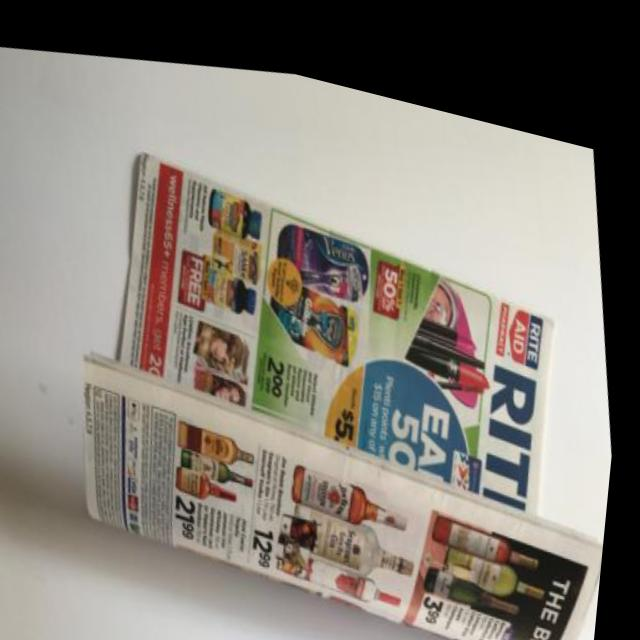paper: (0, 4, 640, 640)
